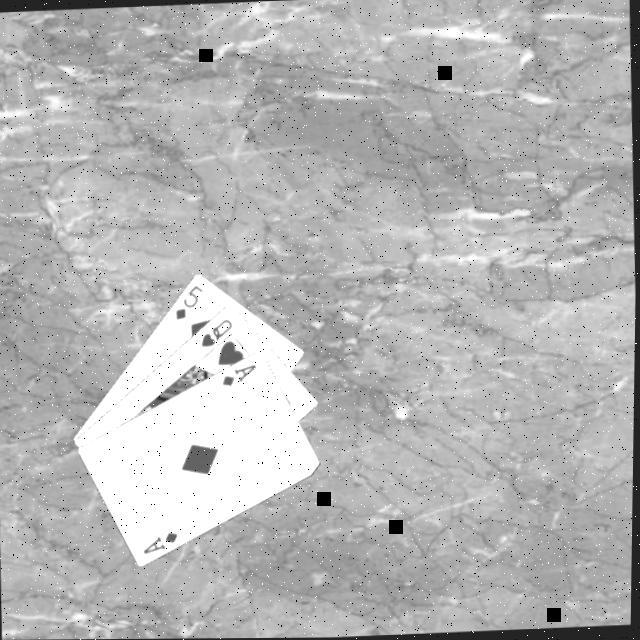5D: (170, 282, 207, 323)
AD: (138, 528, 182, 557), (218, 362, 260, 389)
QH: (197, 316, 236, 350)
